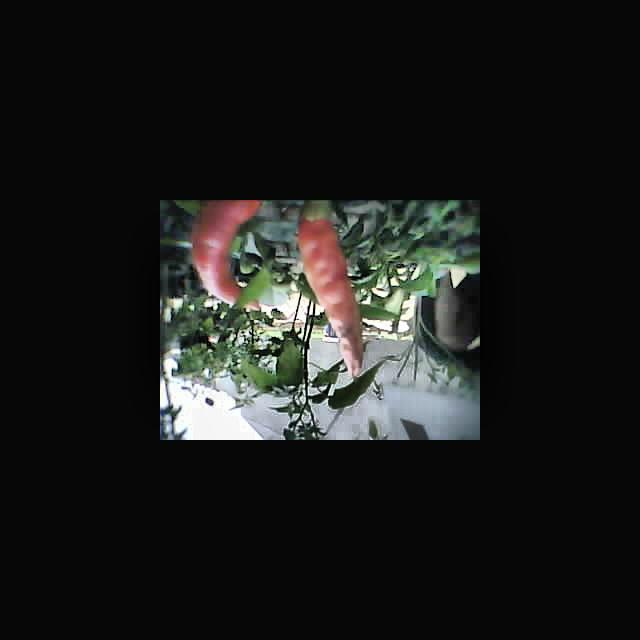Cabai: (282, 206, 391, 384), (190, 205, 271, 314)
